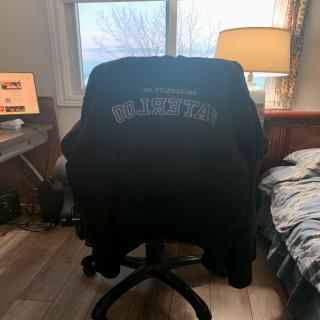Waterloo Hoodie: (59, 57, 270, 281)
